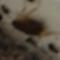cockroach: (11, 18, 44, 36), (48, 43, 58, 54), (2, 5, 10, 15)
